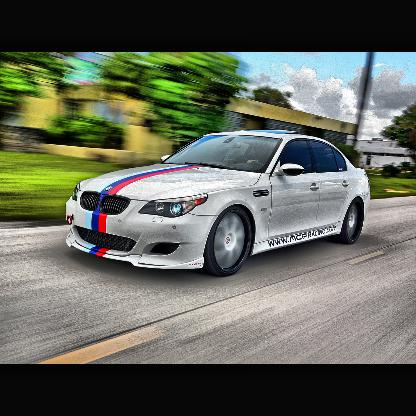BMW M5 Sedan 2010: (66, 130, 369, 278)
